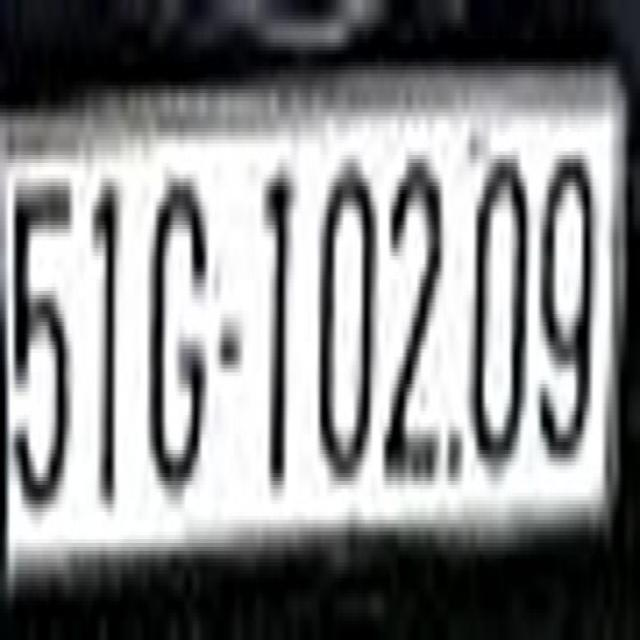0: (316, 136, 372, 473), (473, 128, 527, 469)
1: (94, 182, 126, 508), (265, 147, 293, 477)
2: (389, 155, 433, 493)
5: (13, 167, 73, 520)
9: (539, 171, 591, 438)
G: (156, 186, 206, 489)
